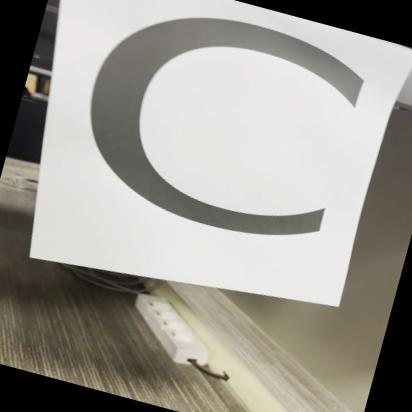seat: (22, 0, 402, 304)
